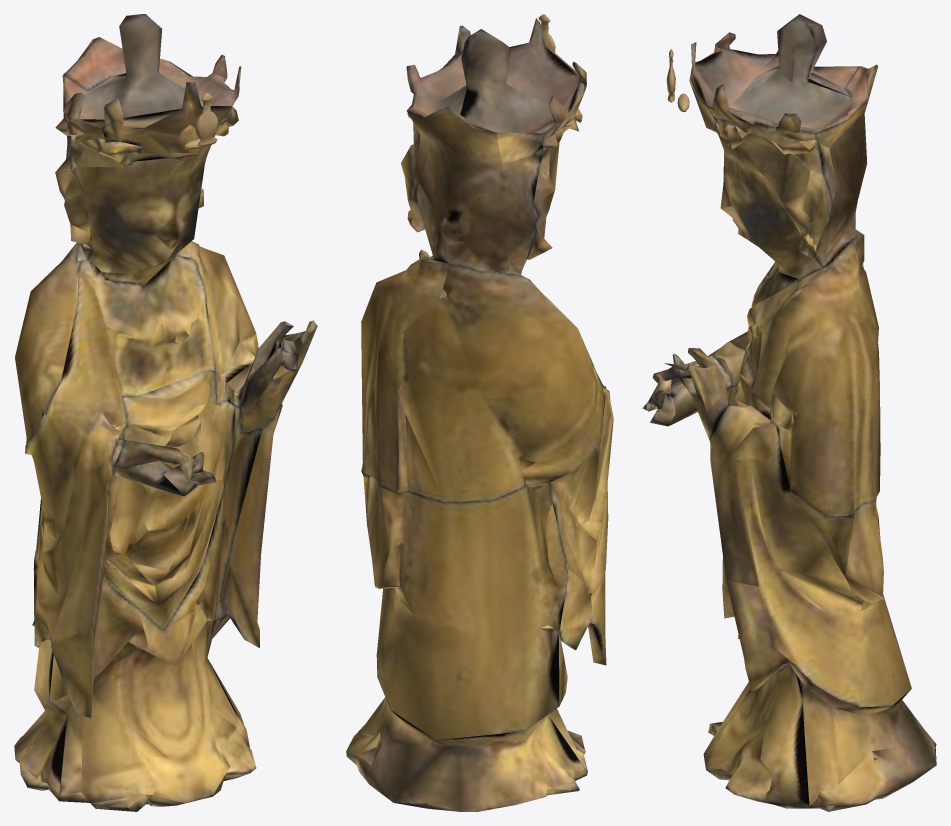
Rendered from village-mahastamaprapta-preview.glb.
3 renders of one model, left to right at view 1: azimuth 30°, elevation 25°; view 2: azimuth 150°, elevation 25°; view 3: azimuth 270°, elevation 25°, orthographic. The views are drawn at different scales.
Parts seen in each view (by area): view 1: NMK_Goryeo_companion_interpreted_as_mahastamaprapta, Mahasthamaprapta crown water vessel; view 2: NMK_Goryeo_companion_interpreted_as_mahastamaprapta; view 3: NMK_Goryeo_companion_interpreted_as_mahastamaprapta.
Part boxes in pixels (x1,y1,x2,y2): NMK_Goryeo_companion_interpreted_as_mahastamaprapta: (14, 14, 317, 811); Mahasthamaprapta crown water vessel: (195, 93, 218, 145); NMK_Goryeo_companion_interpreted_as_mahastamaprapta: (346, 18, 613, 811); NMK_Goryeo_companion_interpreted_as_mahastamaprapta: (642, 14, 936, 811).
Size of the model in its own units: 0.3296 by 0.9956 by 0.3578.
Materials: 2 (1 with a texture image).
